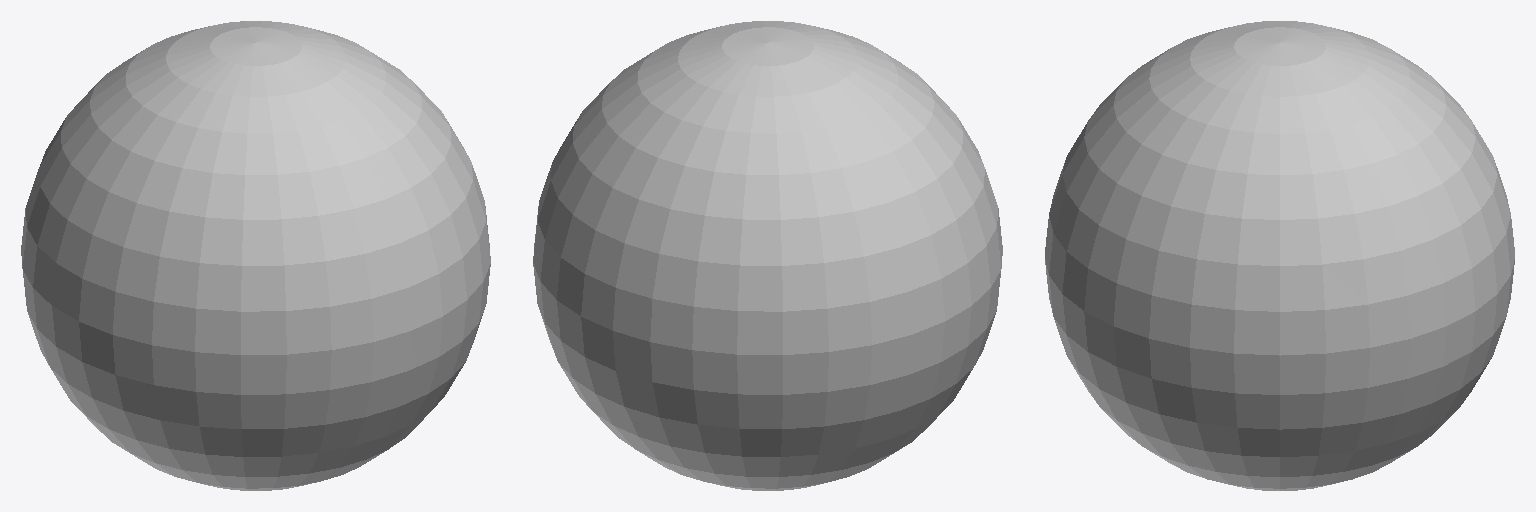
File: Ball_2.obj
3 renders of one model, left to right at view 1: azimuth 30°, elevation 25°; view 2: azimuth 150°, elevation 25°; view 3: azimuth 270°, elevation 25°, orthographic.
Parts seen in each view (by area): view 1: Sphere002; view 2: Sphere002; view 3: Sphere002.
Part boxes in pixels (bbox=[...]): Sphere002: bbox=[21, 21, 490, 490]; Sphere002: bbox=[533, 21, 1002, 490]; Sphere002: bbox=[1045, 21, 1514, 490].
Bounding box in the file's own units: 12 × 12 × 12.